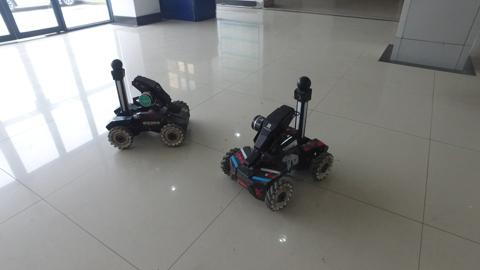chariot: (217, 73, 345, 216), (101, 57, 192, 156)
